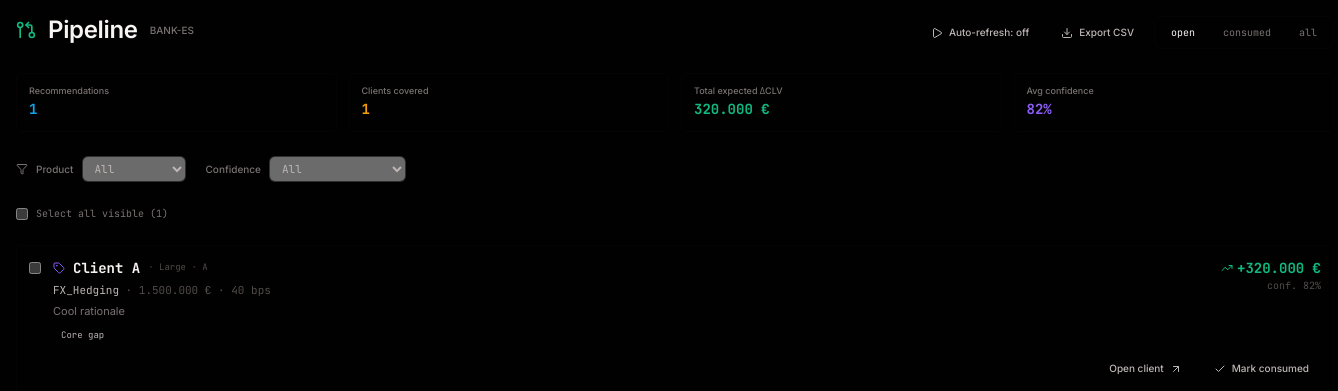
Scenario: PipelineView › auto-refresh button toggles aria-pressed and label
Expected: the text "Client A" is shown, [73,258,140,278]
Click the button with test id "pipeline-auto-refresh".
click(980, 32)  # box [919,16,1041,48]
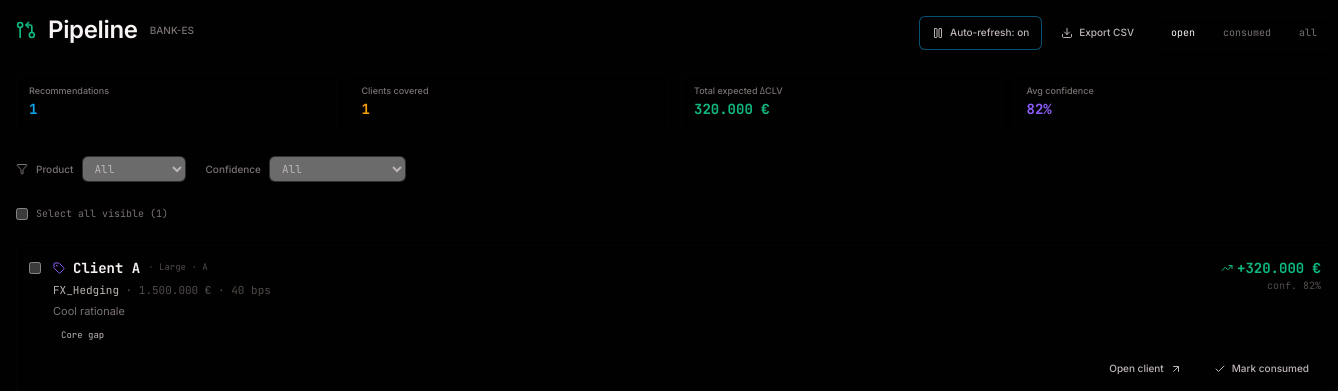
Expected: the button with test id "pipeline-auto-refresh" shows "on", [920,16,1041,48]
